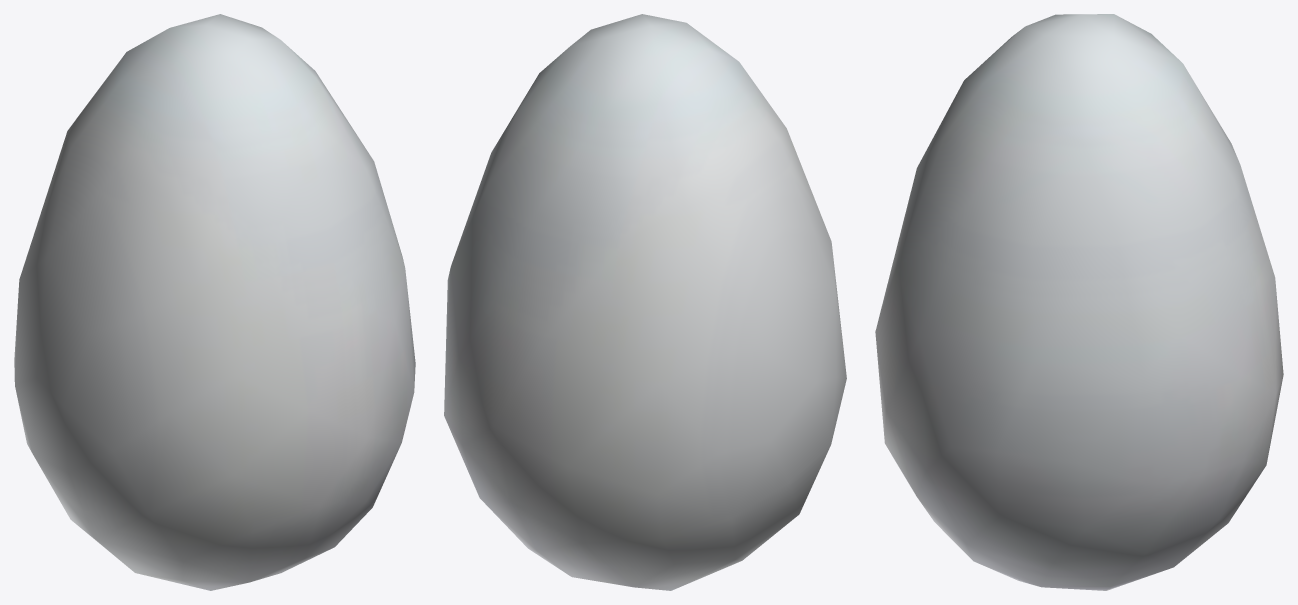
The picture shows the model from 3 angles, left to right: view 1: azimuth 30°, elevation 25°; view 2: azimuth 150°, elevation 25°; view 3: azimuth 270°, elevation 25°; orthographic projection.
Parts seen in each view (by area): view 1: egg; view 2: egg; view 3: egg.
Boxes of the visible parts, <box> form: egg: <box>14,14,415,590</box>; egg: <box>444,14,846,590</box>; egg: <box>875,14,1283,590</box>.
Bounding box in the file's own units: 0.0403 × 0.06 × 0.0402.
Materials: 1 (1 with a texture image).
